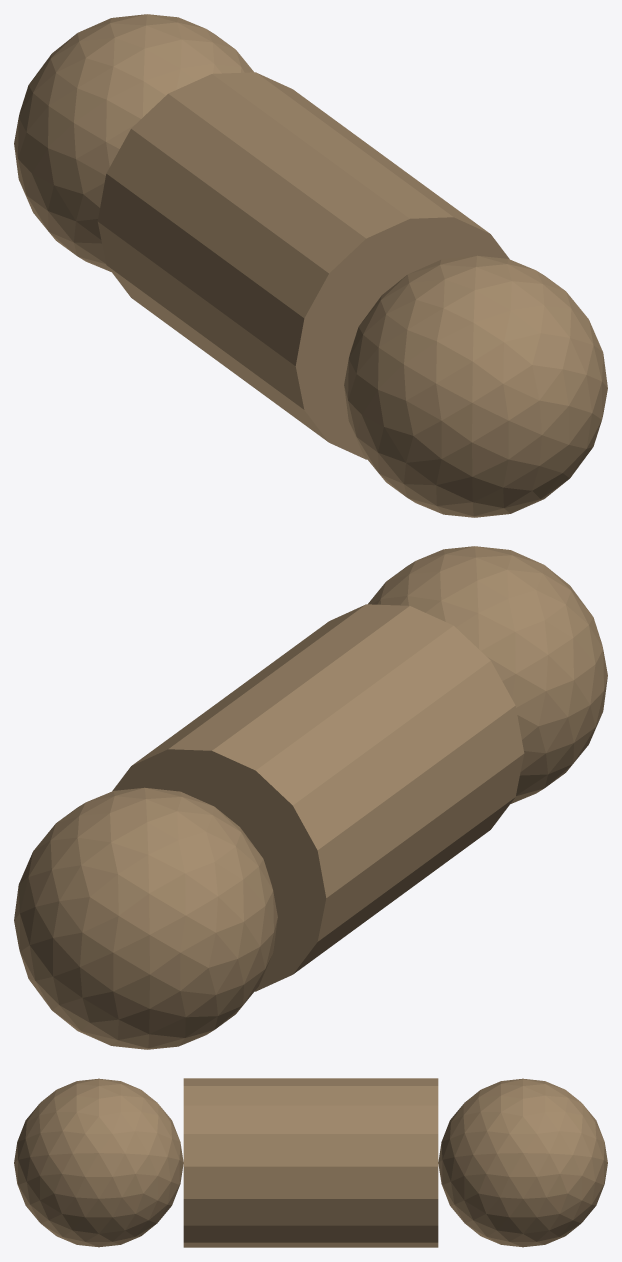
File: windman_left_upper_leg.glb
3 renders of one model, top to bottom at view 1: azimuth 30°, elevation 25°; view 2: azimuth 150°, elevation 25°; view 3: azimuth 270°, elevation 25°, orthographic. The views are drawn at different scales.
Parts seen in each view (by area): view 1: world; view 2: world; view 3: world.
Boxes of the visible parts, box(x1,y1,x2,y2) form: world: box(14, 14, 607, 517); world: box(14, 546, 607, 1049); world: box(14, 1078, 607, 1247).
Size of the model in its own units: 0.14 by 0.14 by 0.49.
